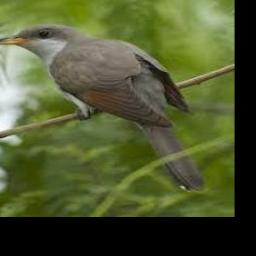Cuckoo: (0, 24, 206, 190)
